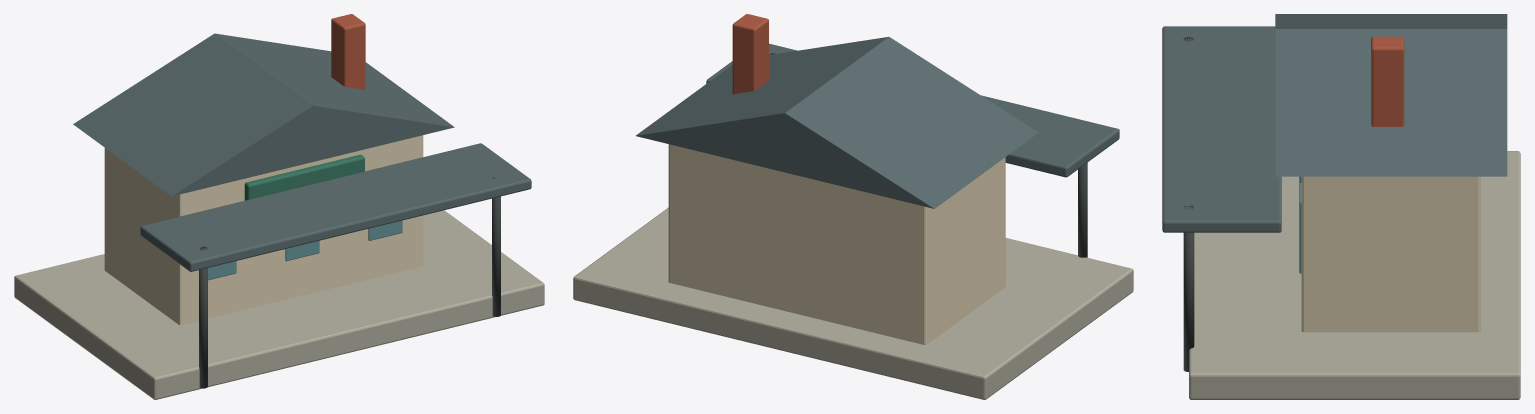
File: station.glb
3 views of the same model, side by side, from view 1: azimuth 30°, elevation 25°; view 2: azimuth 150°, elevation 25°; view 3: azimuth 270°, elevation 25° (orthographic). The views are drawn at different scales.
Visible parts, largest first — view 1: station_roof, station_stone, station_plaster, station_red, station_green, station_iron, station_glass; view 2: station_plaster, station_roof, station_stone, station_red, station_iron; view 3: station_roof, station_stone, station_plaster, station_red, station_iron.
Part boxes in pixels (bbox=[...]): station_roof: bbox=[73, 33, 531, 271]; station_stone: bbox=[14, 210, 544, 399]; station_plaster: bbox=[104, 135, 423, 325]; station_red: bbox=[331, 14, 365, 89]; station_green: bbox=[244, 154, 364, 200]; station_iron: bbox=[199, 177, 500, 388]; station_glass: bbox=[208, 220, 402, 280]; station_plaster: bbox=[668, 144, 1005, 344]; station_roof: bbox=[635, 37, 1119, 208]; station_stone: bbox=[573, 207, 1133, 399]; station_red: bbox=[732, 14, 768, 94]; station_iron: bbox=[769, 53, 1087, 257]; station_roof: bbox=[1162, 14, 1507, 232]; station_stone: bbox=[1189, 151, 1520, 399]; station_plaster: bbox=[1301, 176, 1480, 332]; station_red: bbox=[1371, 36, 1404, 126]; station_iron: bbox=[1183, 37, 1194, 371].
Size of the model in its own units: 8 by 4.9 by 5.4.
